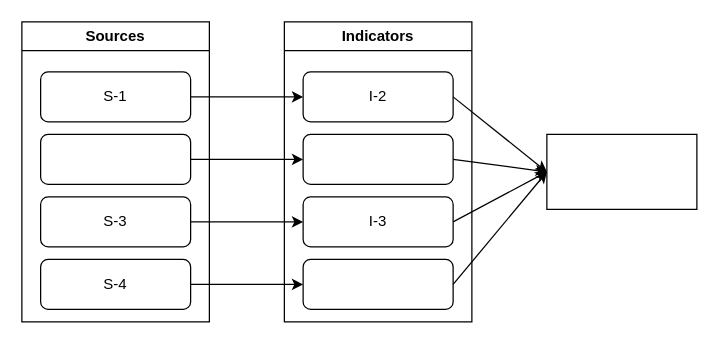
The diagram is 719 pixels wide and 344 high, and some of its shapes have lost their labels. Each missing label, with the box of its shape:
crba_report: (546, 133, 697, 209)
I-5: (302, 133, 453, 184)
I-6: (302, 258, 453, 309)
S-2: (39, 133, 191, 184)
